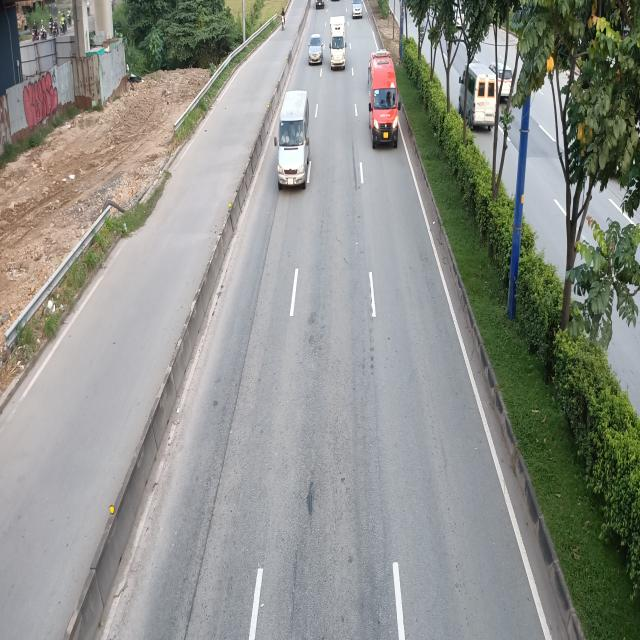car: (308, 34, 324, 66), (352, 0, 364, 18)
truck: (328, 16, 346, 70)
van: (275, 90, 312, 189), (367, 50, 398, 146)
